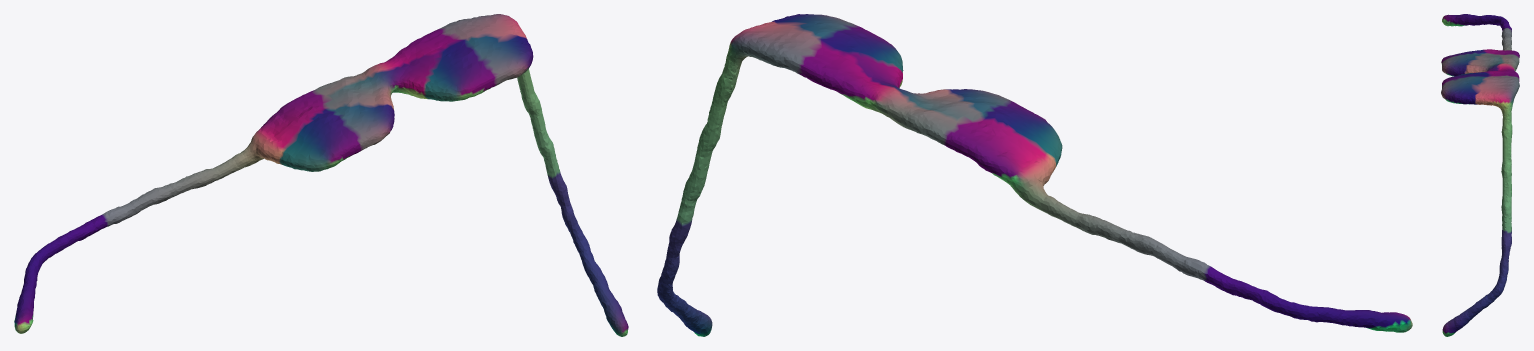
Rendered from glasses-13.off.obj.
3 renders of one model, left to right at view 1: azimuth 30°, elevation 25°; view 2: azimuth 150°, elevation 25°; view 3: azimuth 270°, elevation 25°, orthographic. The views are drawn at different scales.
Bounding box in the file's own units: 1.39 × 0.6711 × 0.2205.
